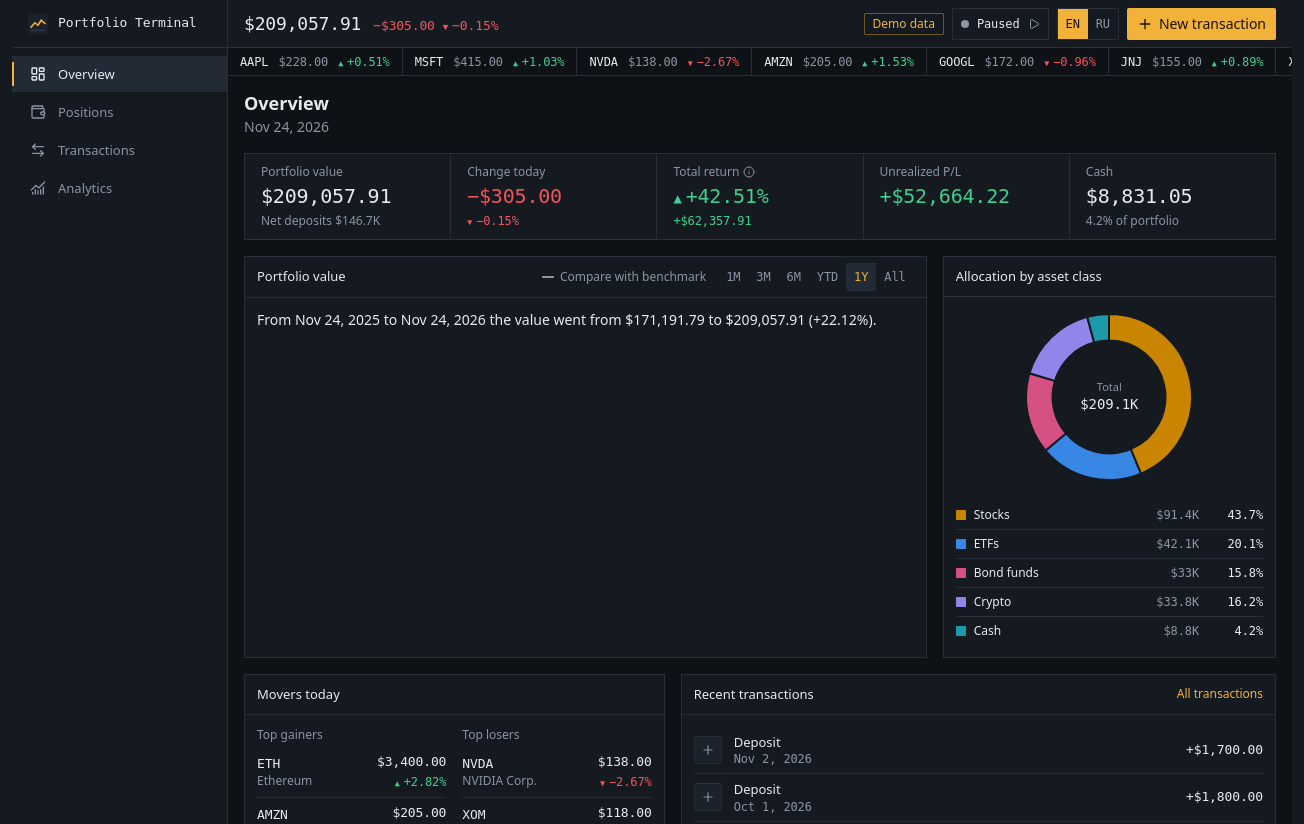
Test case: AppLayout › switches language instantly: texts, number formats and html lang
The width and height of the screenshot is (1304, 824).
Click the button "ru" at (1103, 24), box 1088,8 -> 1118,38
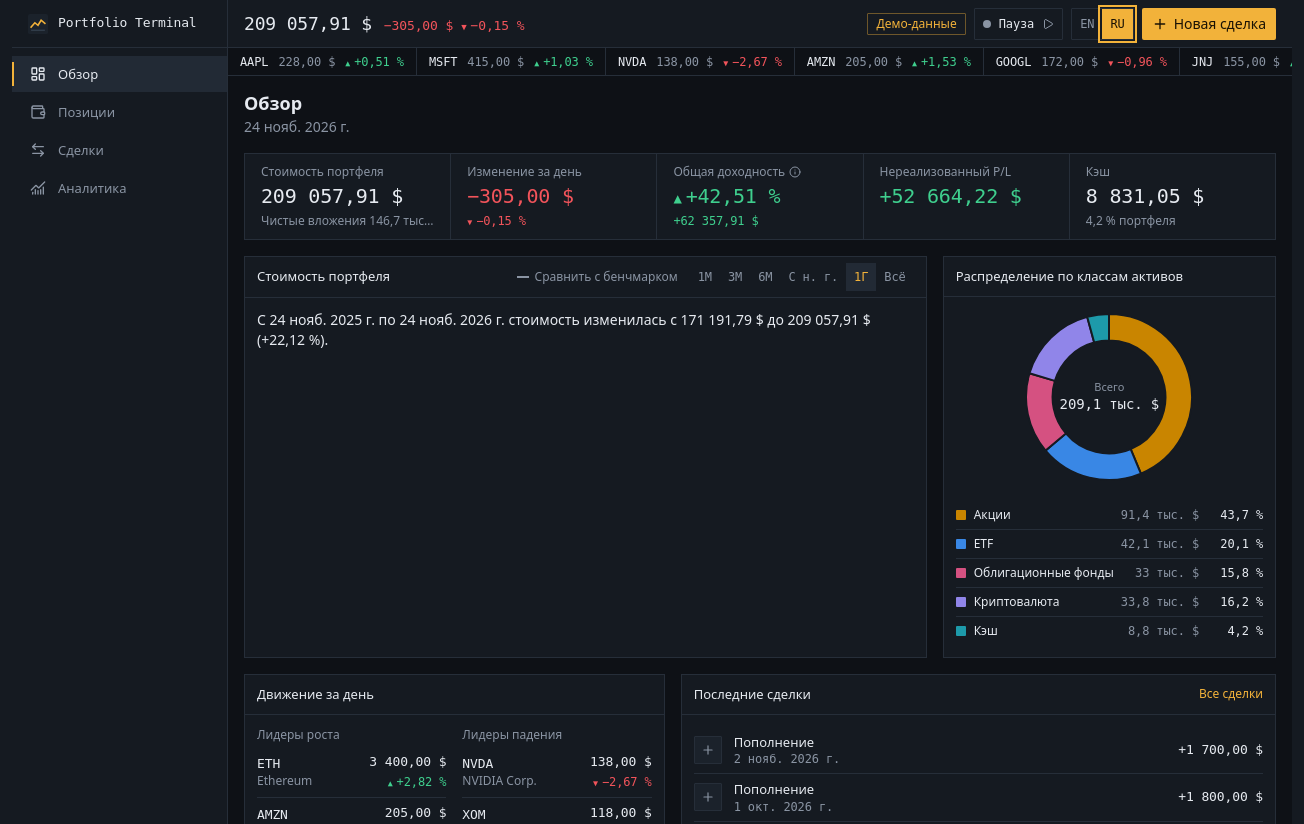
Expected: the link "Позиции" is shown, 30,103 -> 115,121
Expected: the text "Демо-данные" is shown, 868,12 -> 966,34
Expected: the 1st text "209 057,91 $" is shown, 244,12 -> 372,34
